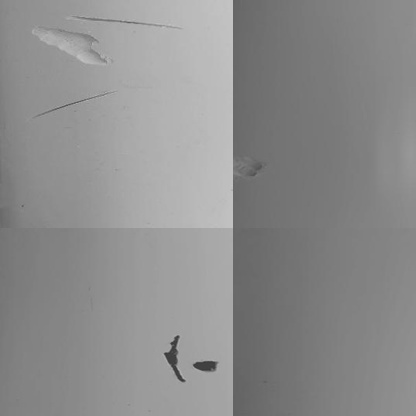kongdong: (161, 333, 188, 385), (191, 352, 220, 376)
sunshang: (31, 20, 107, 67), (31, 92, 122, 119), (76, 12, 189, 32), (236, 154, 267, 185)
